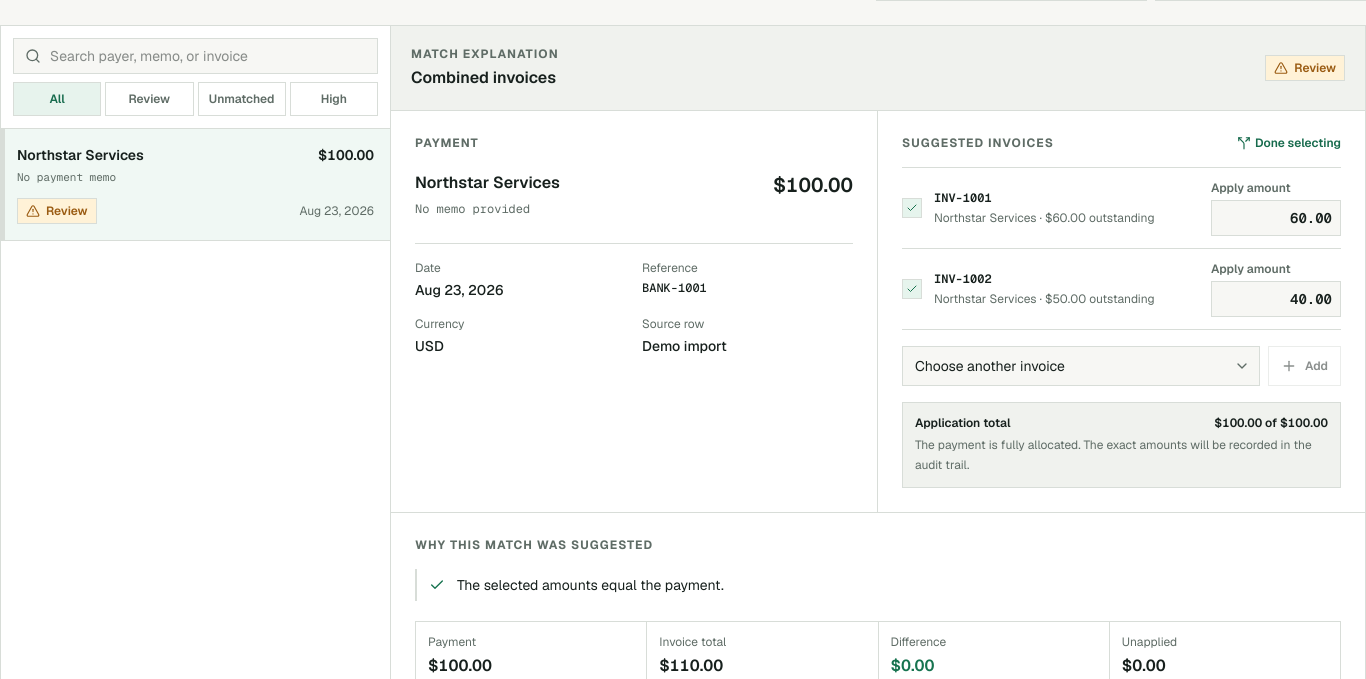
Test: ReviewQueue explicit allocations › blocks an allocation above an invoice balance
The image size is (1366, 679).
Replace the text in the field named "Apply amount to INV-1001" with "60.01" at (1276, 218), box [1211,200,1341,236]
(page scrolled)
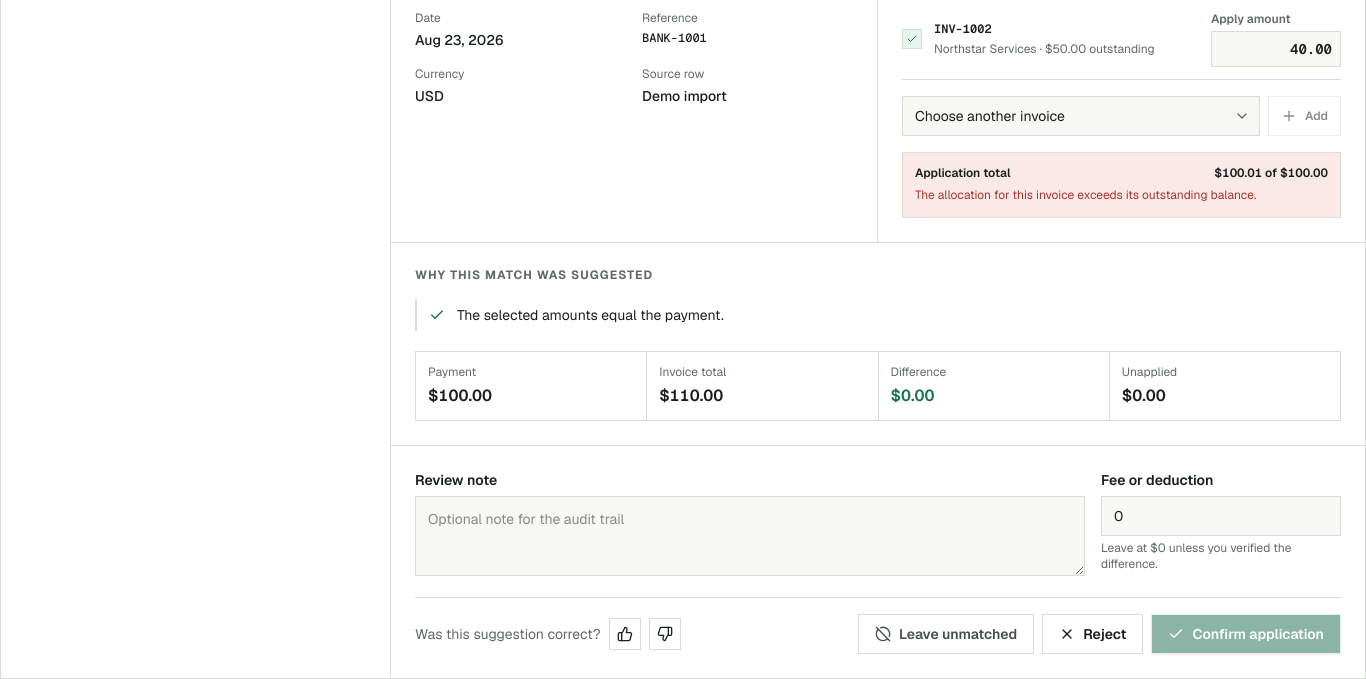
Now the text "The allocation for this invoice exceeds its outstanding balance." is shown, box [915,187,1256,203]
Now the button "Confirm application" is disabled, box [1152,614,1341,654]
